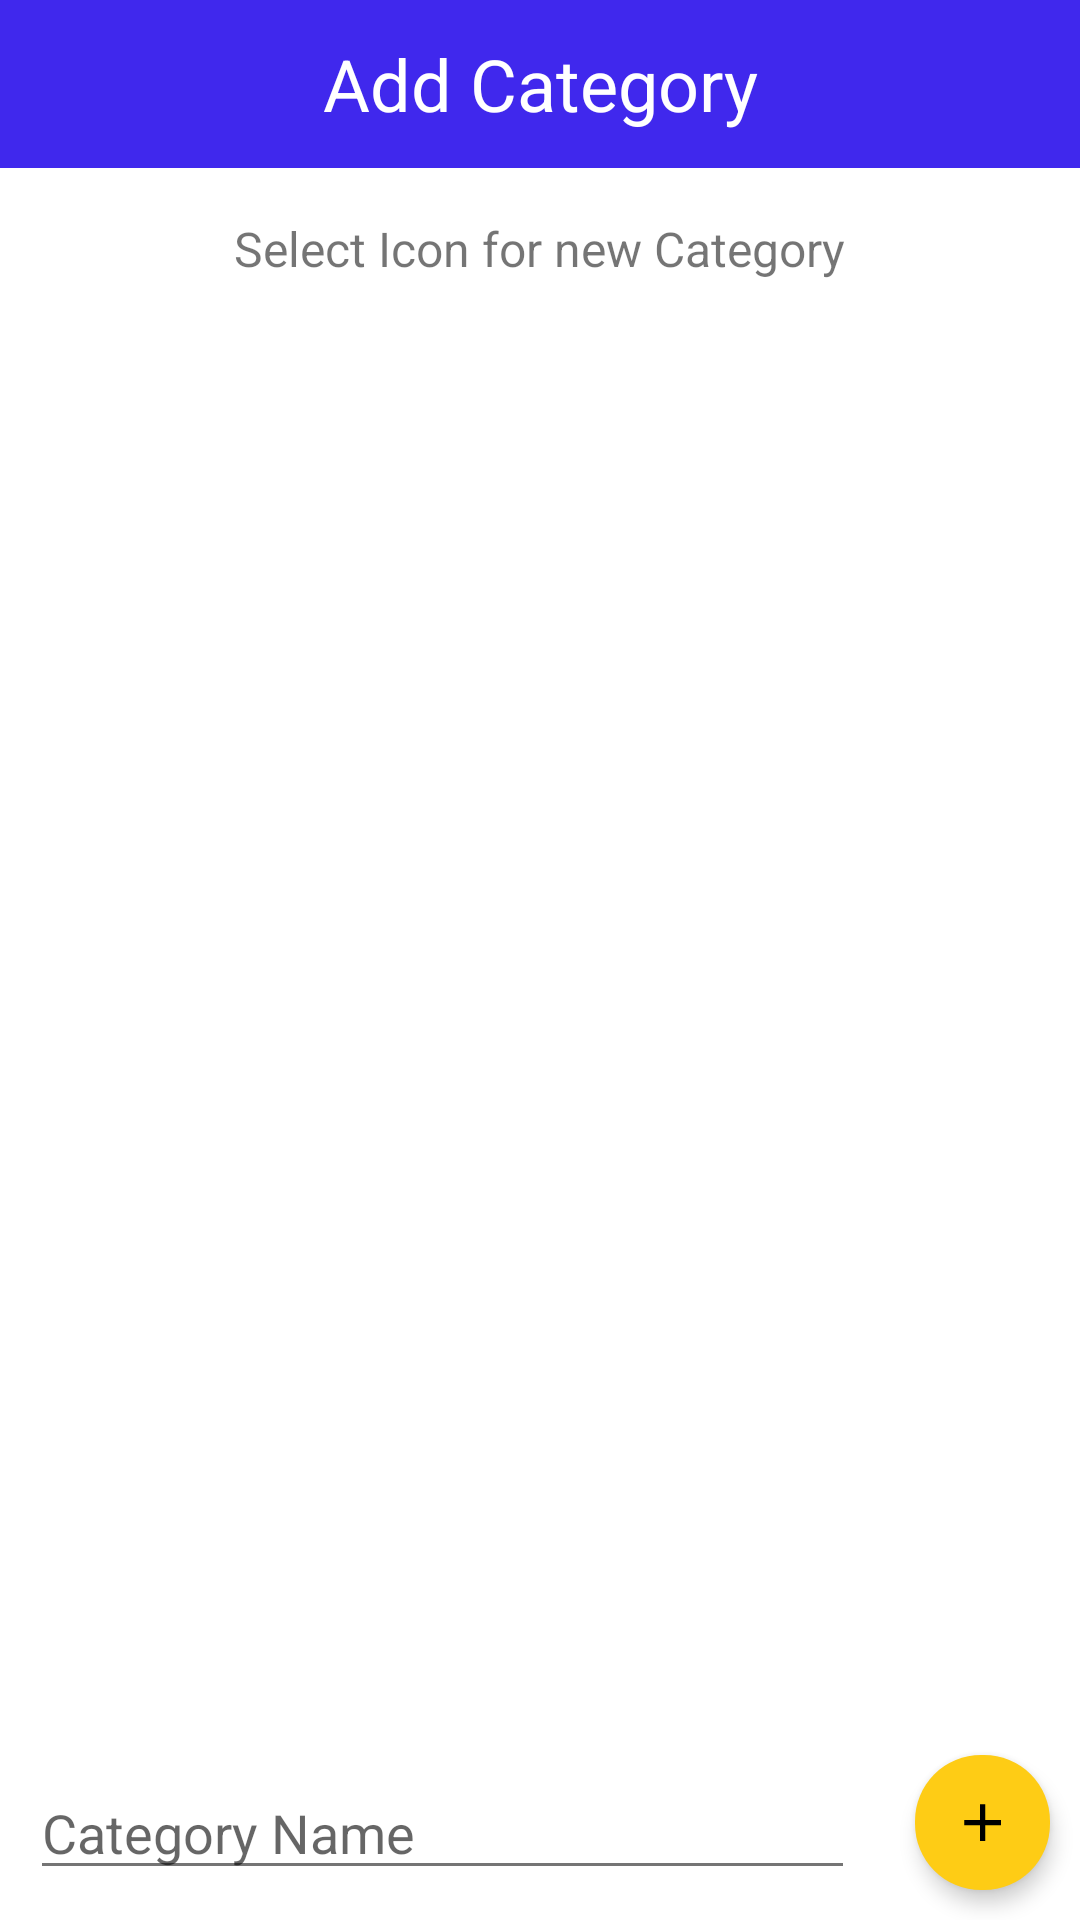

Screen size 1080×1920. Icon name, then its center in pixels as [x,y]:
add: [982,1822]
